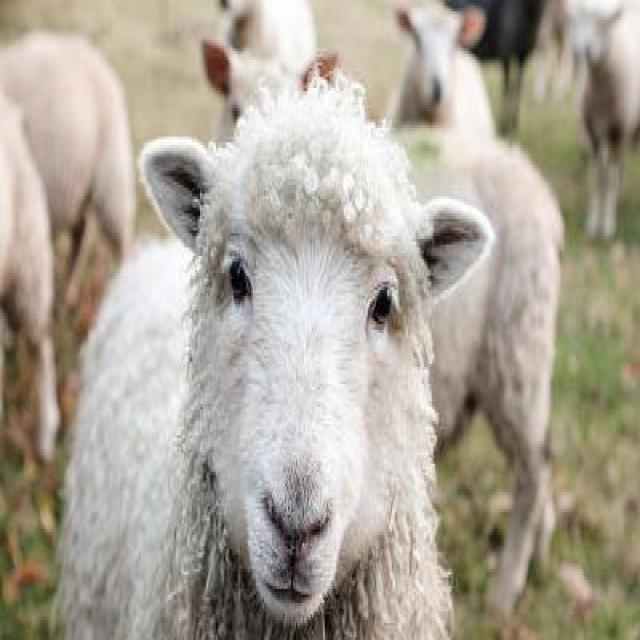sheep: (54, 71, 493, 637), (0, 31, 134, 455), (202, 0, 336, 134), (395, 6, 493, 137)
